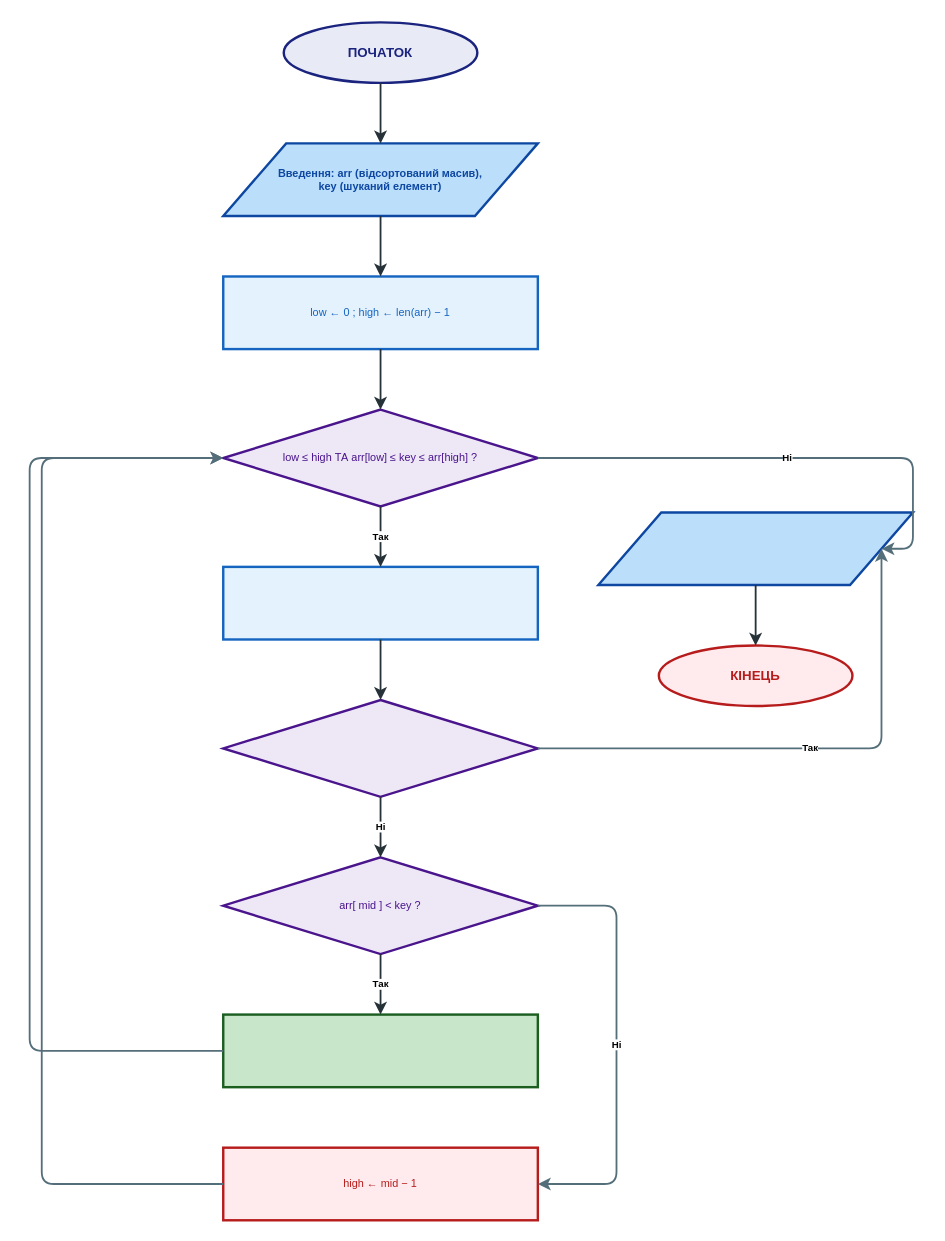
This 945x1241 diagram has some shape labels left out. Here are the shapes that lost their labels. From the top down, the centre of each, then its label:
At (x=755, y=548): "Виведення: позиція = mid або −1 (не знайдено)".
At (x=379, y=602): "mid ← low + (key − arr[low]) × (high − low) / (arr[high] − arr[low])".
At (x=379, y=747): "arr[ mid ] = key ?".
At (x=379, y=1050): "low ← mid + 1".
